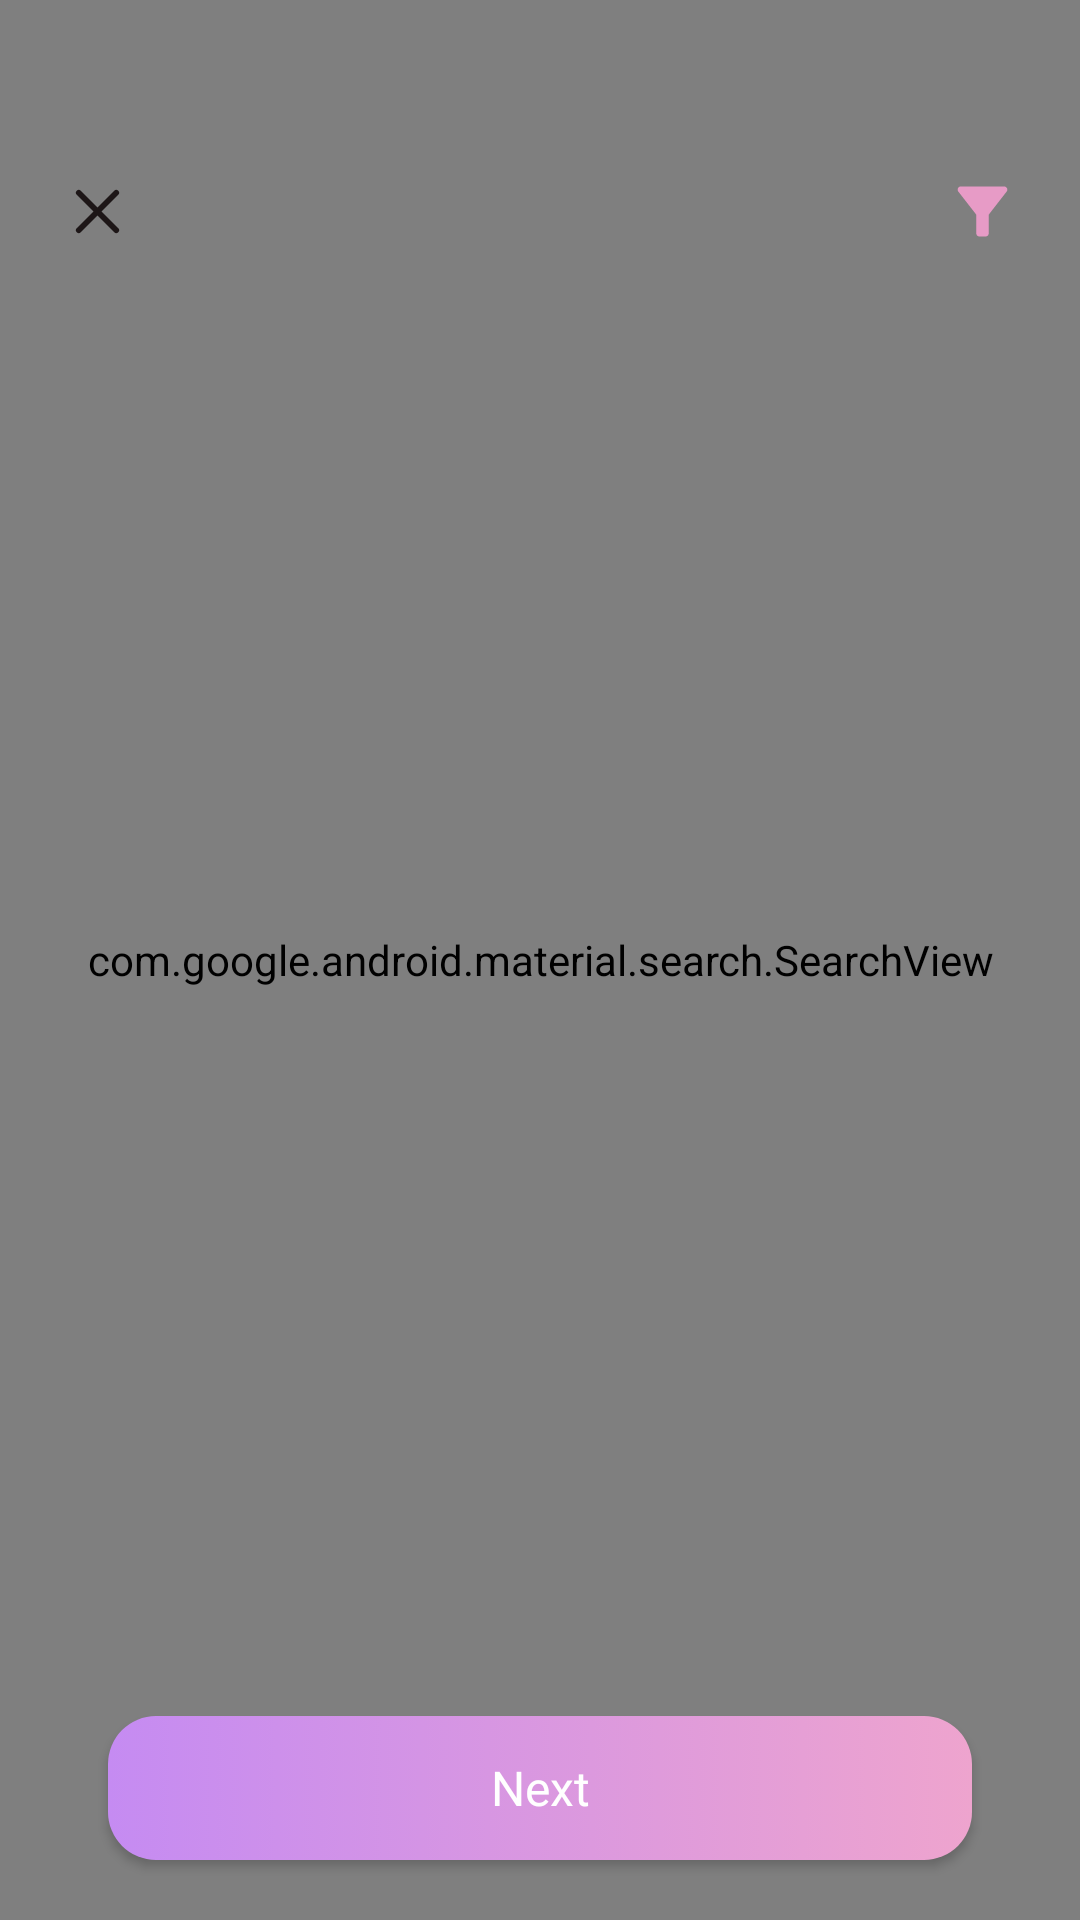

Screen size 1080*1920. Icon name, then its box in pixels as box=[x1, y1, x2, y2]:
close: box=[76, 190, 119, 233]
filter: box=[957, 186, 1008, 237]
